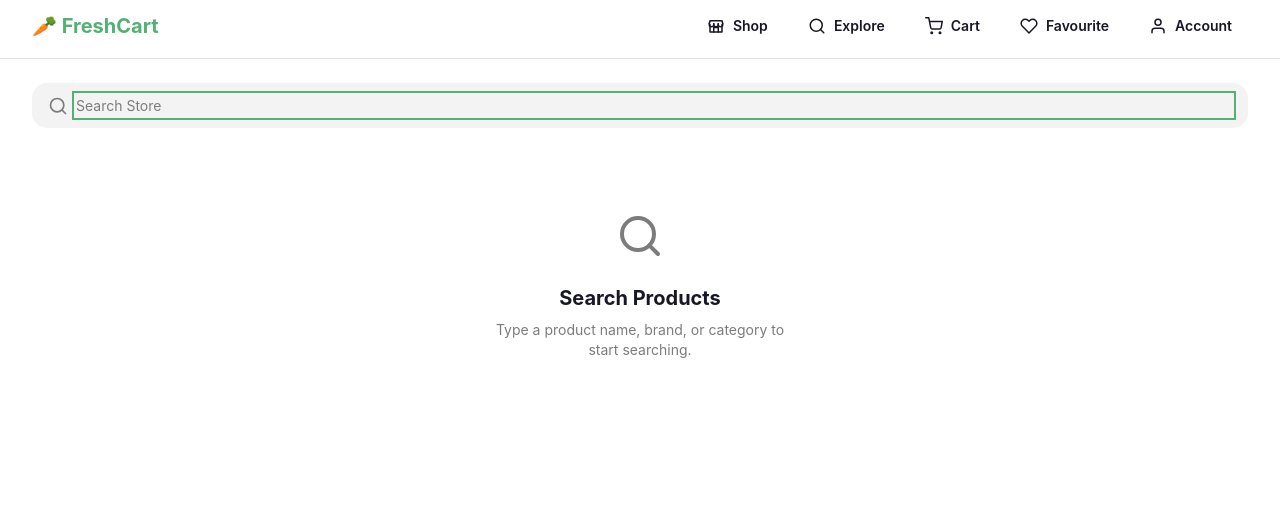
Test: SearchPage › clears search results when input is cleared
This screenshot has width=1280, height=512.
In the search field labelled "Search Store": (654, 106) top-left (76, 95), bottom-right (1232, 116), type "apple"
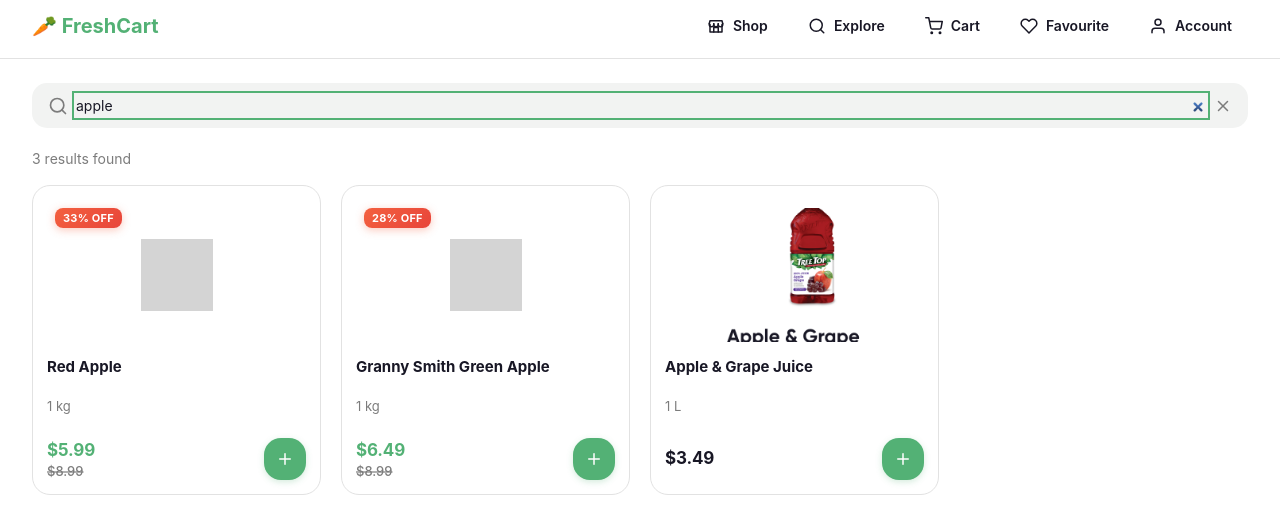
expect the heading "Red Apple" is shown: met, box top-left (47, 357), bottom-right (122, 376)
Click the button named "Clear search": click(1223, 106) top-left (1214, 96), bottom-right (1232, 114)
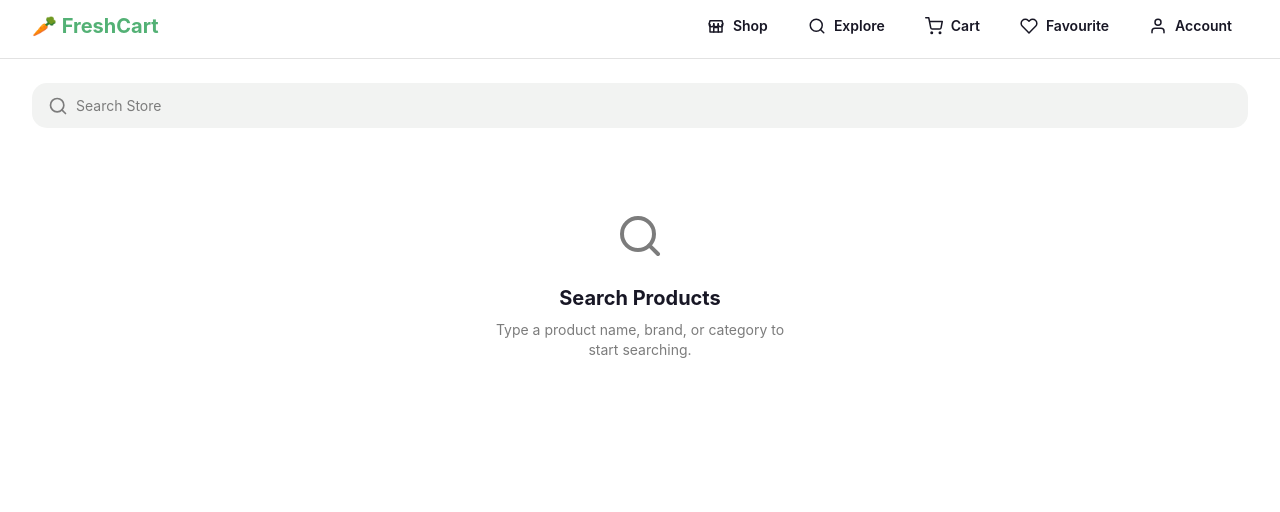
expect the heading "Search Products" is shown: met, box top-left (559, 284), bottom-right (721, 312)
